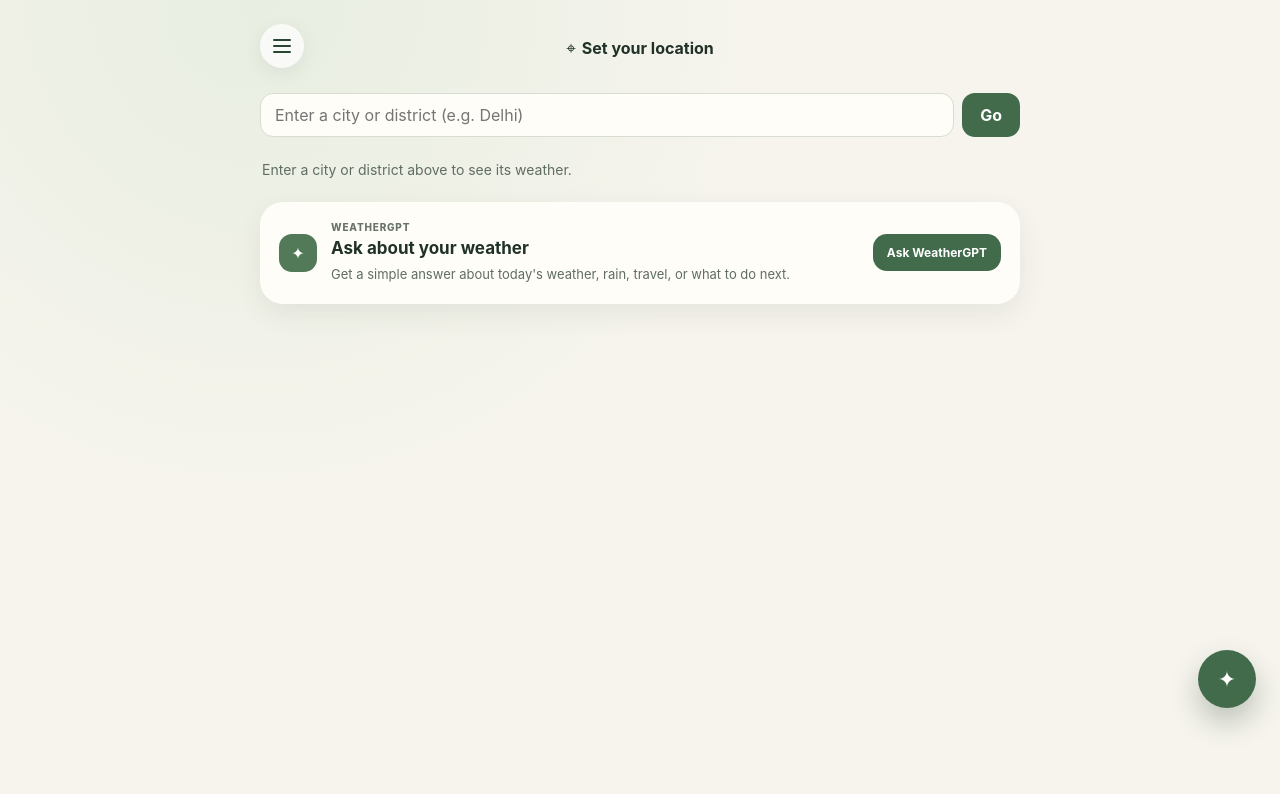
remembers a location only after it resolves successfully
In the field named "Location": (607, 115) [260,93,954,137], type "Delhi"
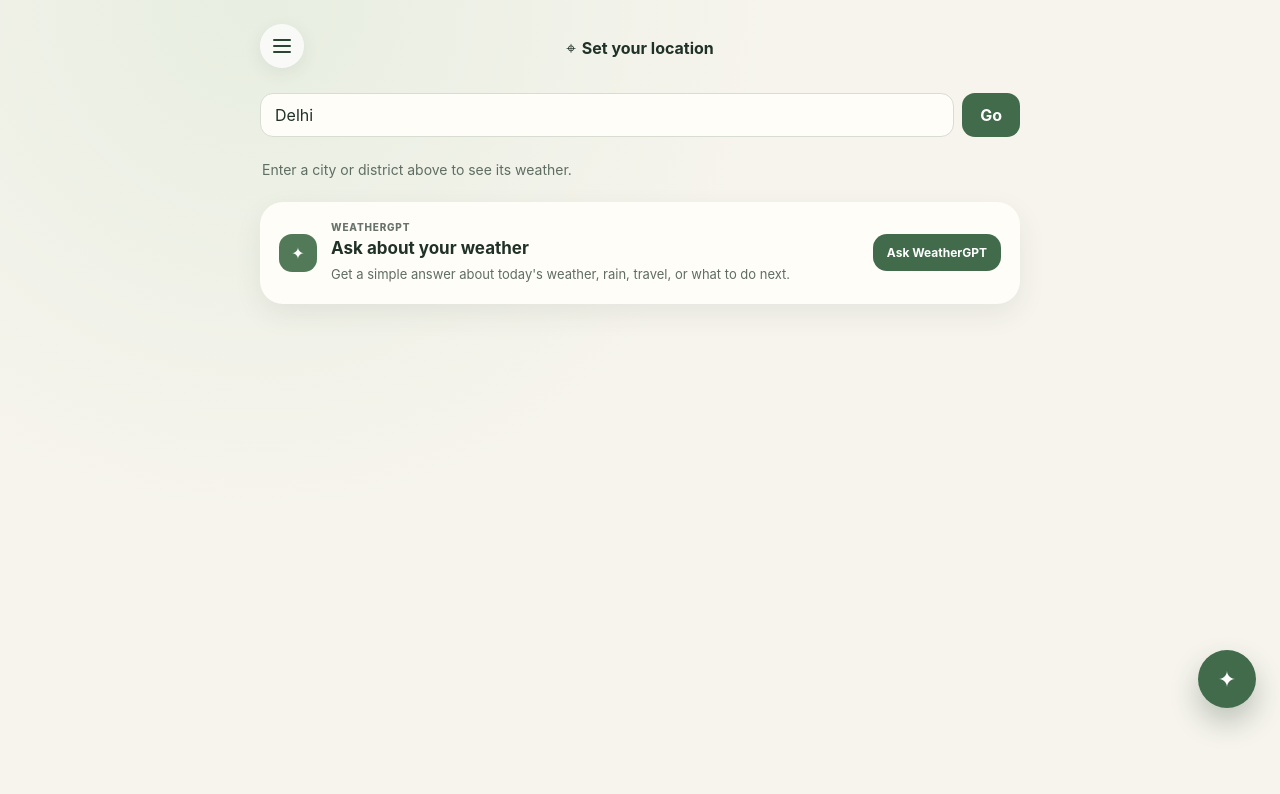
Click the button "Go": (991, 115) [962,93,1020,137]
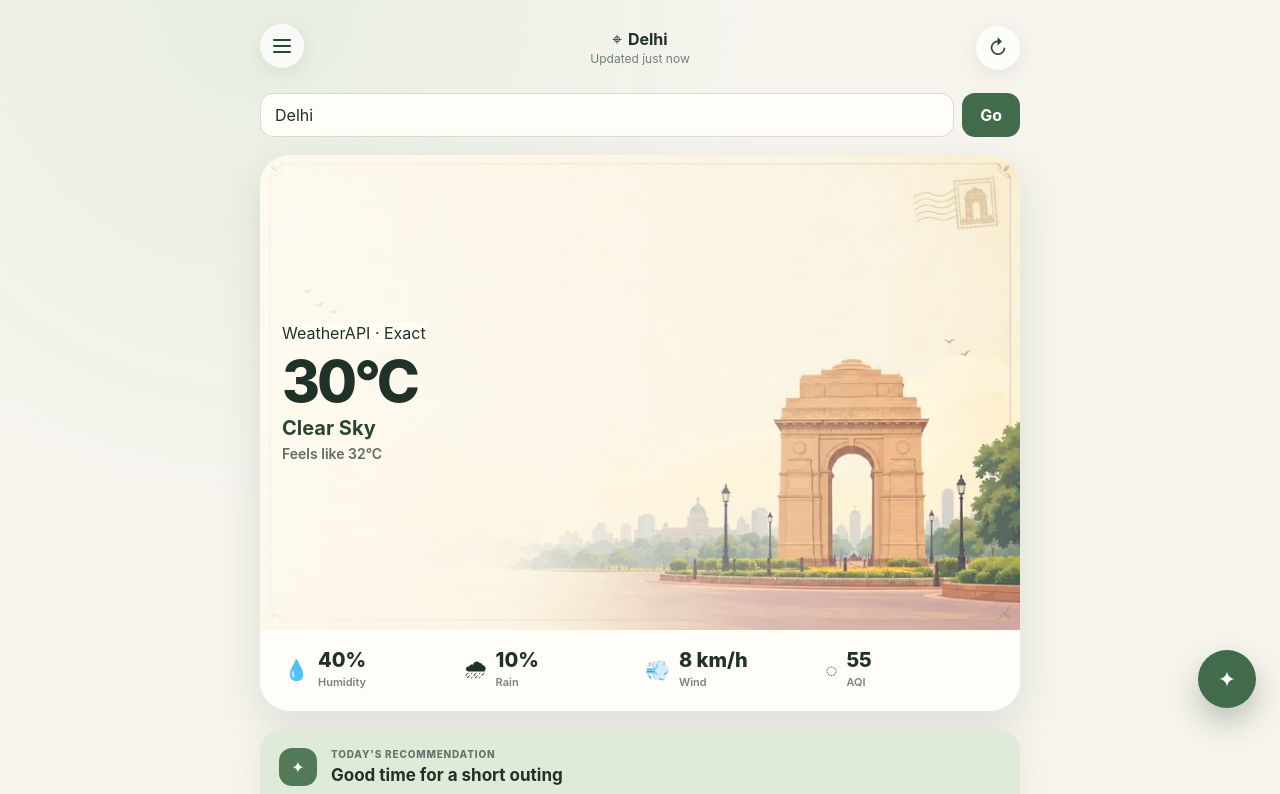
Check: the text "30°C" is shown, box [282,355,417,408]
Check: the text "Delhi" is shown, box [628,29,668,49]
